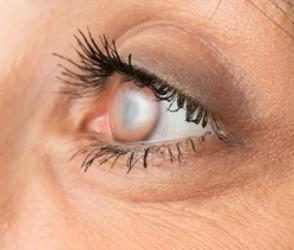eye: (110, 81, 162, 144)
